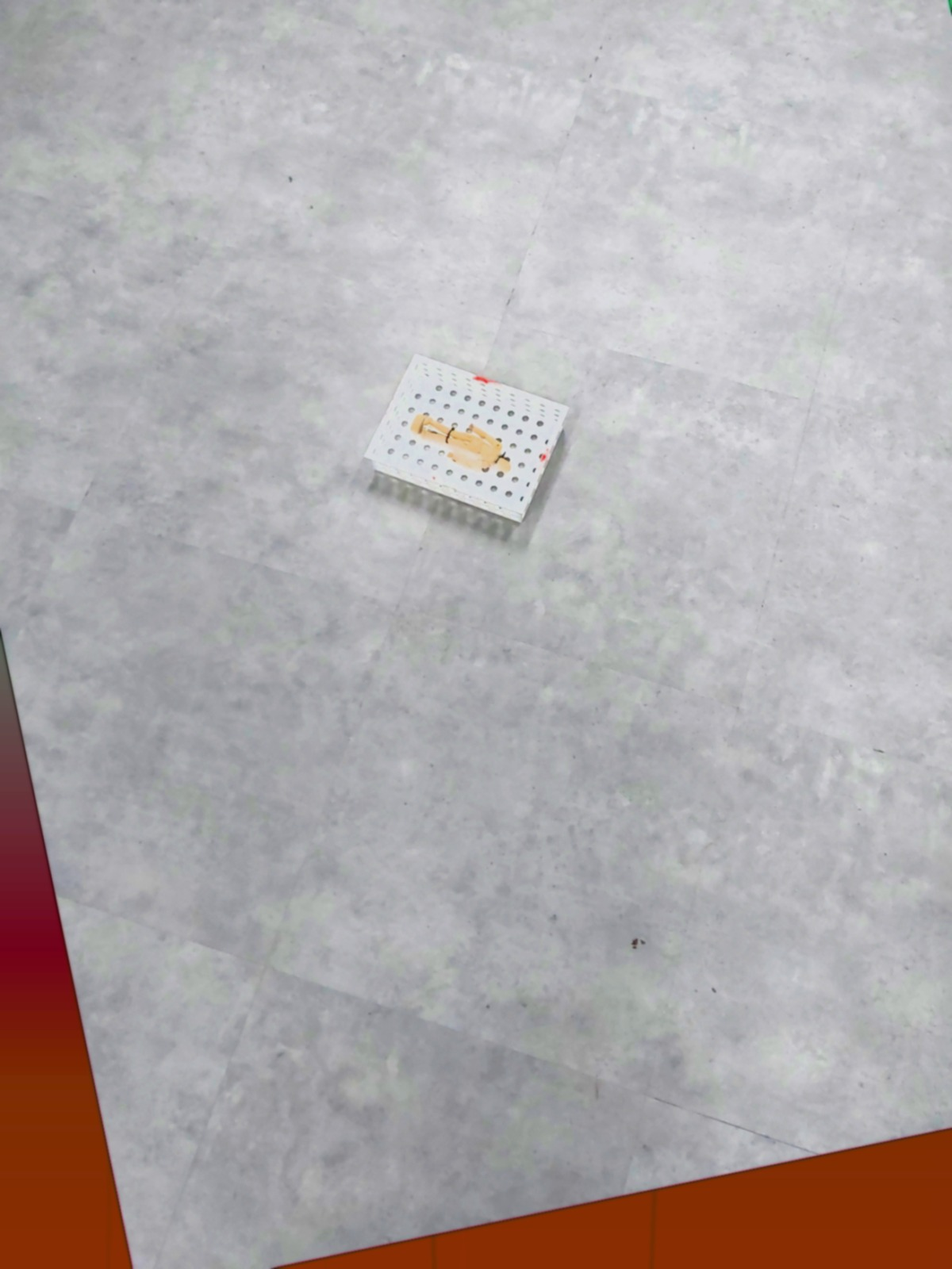basket: (362, 351, 575, 536)
mannequin: (406, 407, 516, 480)
